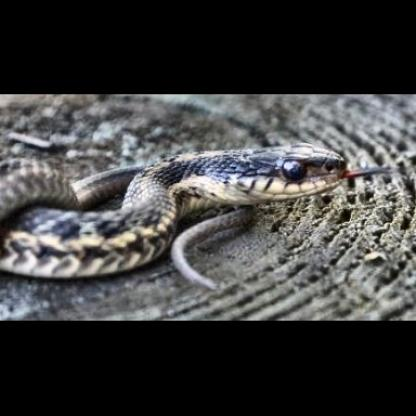Snake: (3, 138, 358, 288)
